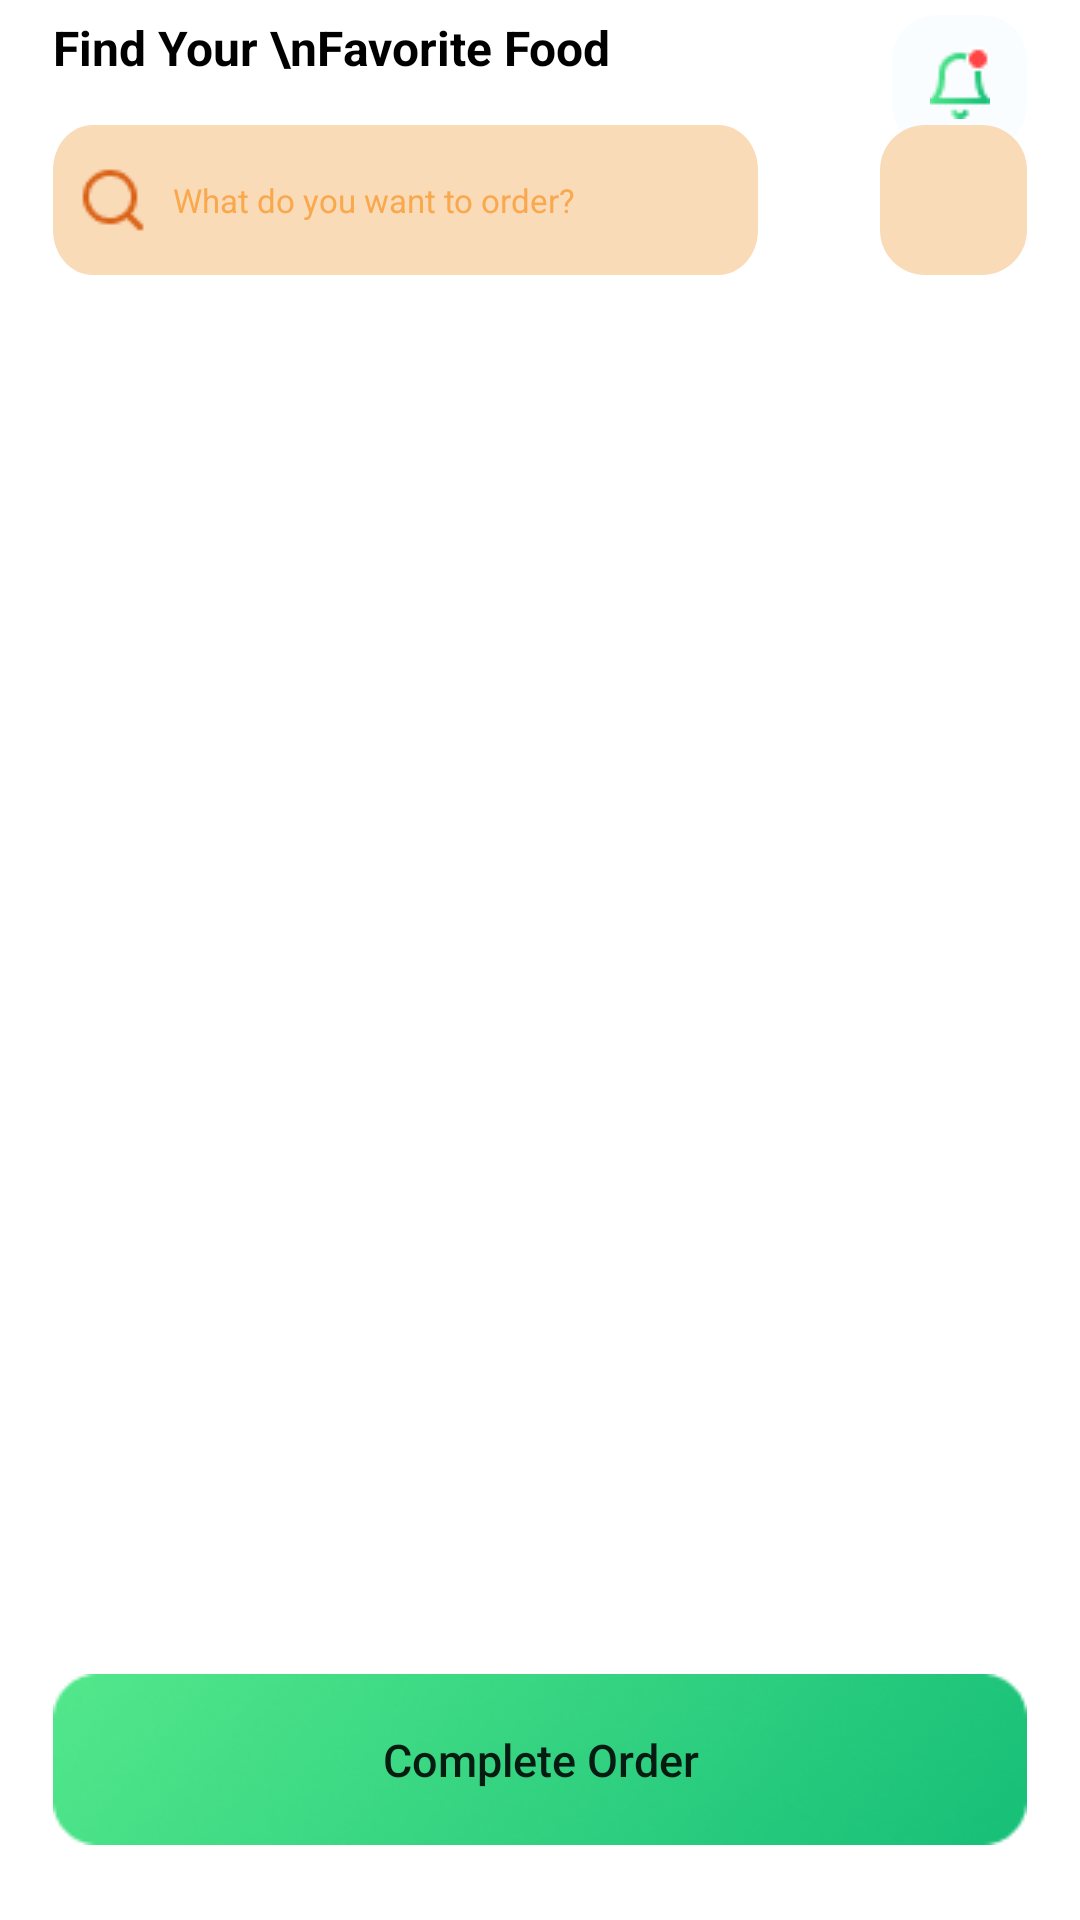

Named icons in this screenshot (1080px x 1920px) and their bounding boxes, {"left": x1, "top": y1, "right": x2, "bottom": y2}:
notifyicon: {"left": 892, "top": 49, "right": 1022, "bottom": 150}
